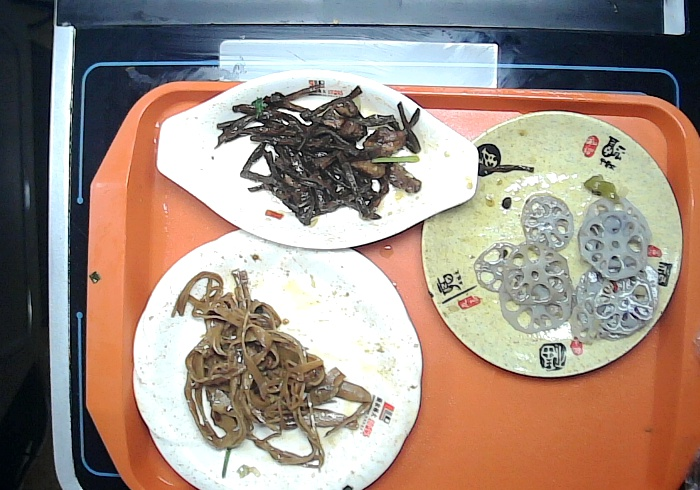NLDX-Bai_Zhe_Yuan_Pan: (132, 230, 424, 490)
NLDX-Fu_Zi_Yuan_Pan: (421, 112, 682, 379)
NLDX-Yu_Pan: (158, 70, 478, 250)
